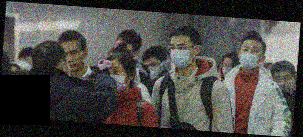with_mask: (105, 62, 129, 94), (167, 40, 195, 67), (238, 43, 263, 69), (272, 72, 294, 94), (141, 60, 164, 80), (55, 55, 71, 78), (16, 55, 34, 71), (221, 59, 234, 77)
without_mask: (62, 46, 84, 71)
